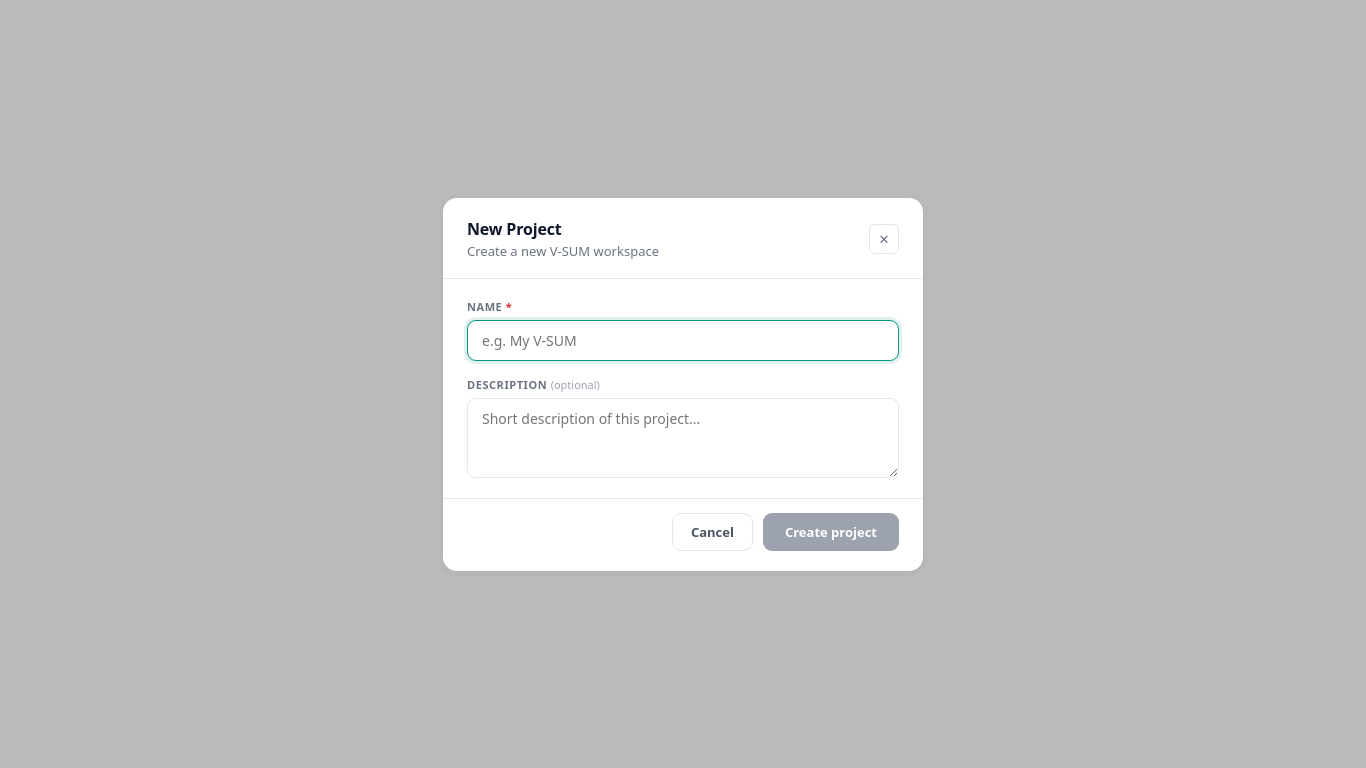
Scenario: CreateVsumModal – additional tests › shows API error when createVsum throws
Type "My VSUM" into the field labelled "Name *" at (683, 340), box [467, 320, 899, 360]
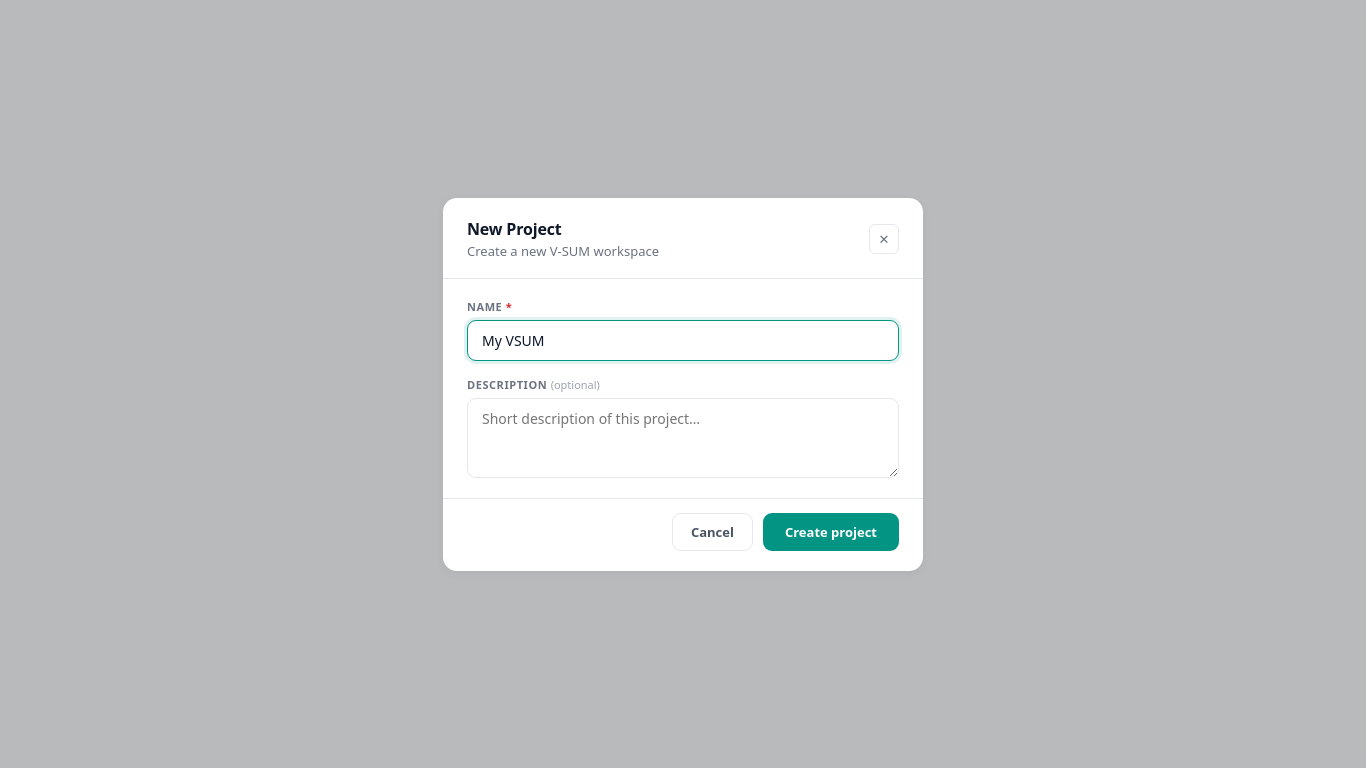
Click the button "Create project" at (831, 532), box [763, 512, 899, 550]
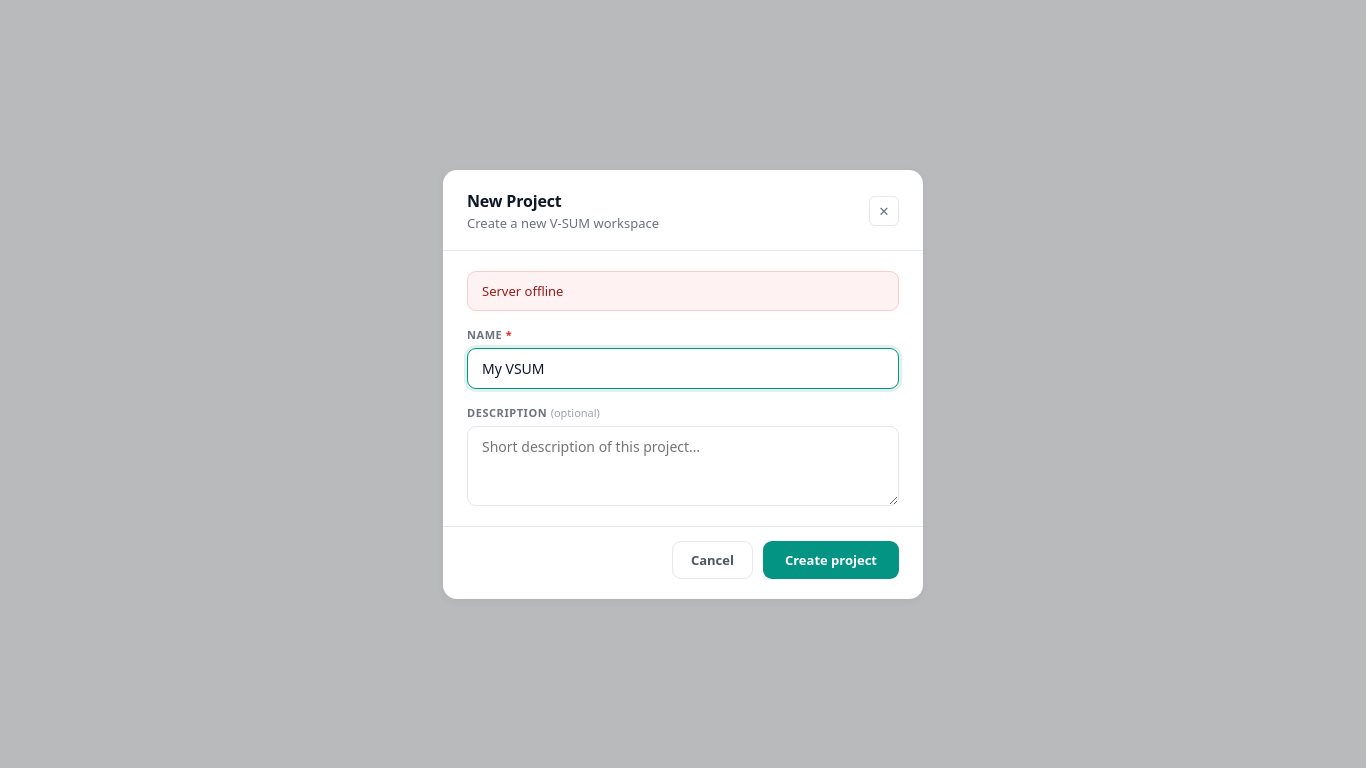
Now the text "Server offline" is shown, box [467, 270, 899, 310]
